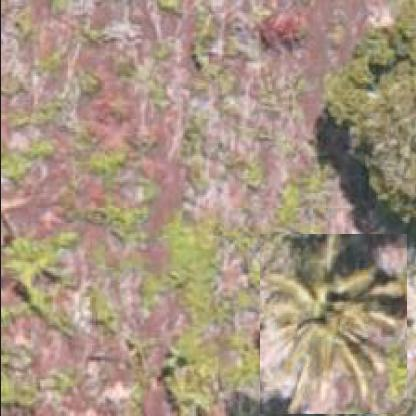coconut tree: (258, 234, 406, 415)
